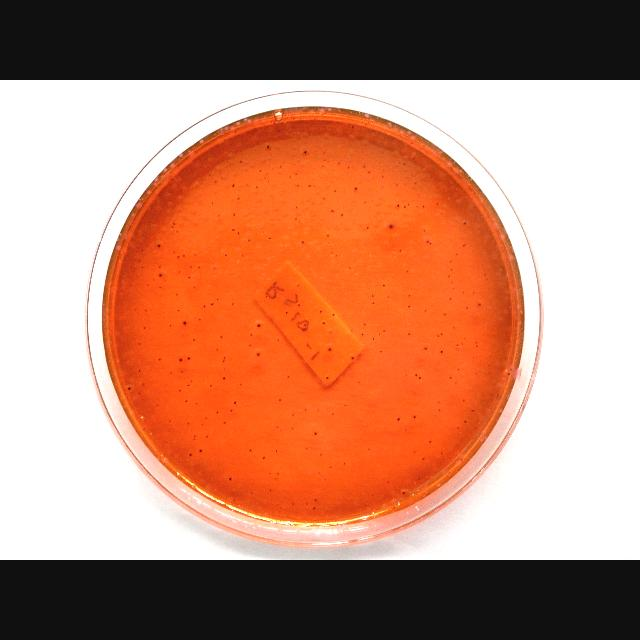colony: (266, 144, 270, 150), (210, 302, 216, 306), (388, 224, 394, 228), (397, 416, 401, 422), (304, 150, 308, 154), (208, 173, 212, 177), (197, 265, 201, 269), (158, 273, 162, 277), (178, 358, 182, 362), (158, 358, 162, 362), (199, 449, 203, 453), (228, 477, 232, 481), (268, 472, 272, 476), (314, 498, 318, 502), (438, 408, 442, 412), (424, 347, 428, 351), (478, 303, 482, 307), (408, 294, 412, 298), (319, 310, 323, 314), (257, 324, 261, 328), (462, 243, 466, 247), (382, 283, 386, 287), (372, 301, 376, 305), (399, 249, 403, 253), (256, 353, 260, 357), (278, 398, 282, 402), (314, 432, 318, 436), (326, 376, 330, 380), (172, 222, 176, 226), (215, 180, 218, 184), (232, 213, 235, 217), (192, 338, 195, 342), (312, 506, 316, 509), (428, 441, 432, 444), (452, 326, 456, 329), (225, 253, 228, 257), (294, 172, 298, 175), (296, 185, 300, 188), (402, 162, 406, 165), (422, 205, 426, 208), (222, 376, 225, 380), (441, 351, 444, 354), (436, 202, 439, 205), (396, 205, 399, 208), (326, 235, 329, 238), (366, 227, 369, 230), (352, 124, 354, 128), (232, 183, 234, 187), (232, 228, 234, 232), (248, 238, 250, 242), (158, 244, 160, 248), (141, 248, 143, 252), (158, 286, 162, 288), (153, 278, 155, 282), (176, 292, 178, 296), (184, 321, 186, 325), (203, 304, 205, 308), (138, 342, 140, 346), (143, 326, 145, 330), (170, 371, 172, 375), (210, 384, 212, 388), (142, 383, 144, 387), (138, 392, 142, 394), (201, 422, 203, 426), (168, 420, 172, 422), (156, 404, 160, 406), (234, 401, 236, 405), (194, 434, 196, 438), (276, 473, 280, 475), (292, 502, 294, 506), (306, 502, 308, 506), (402, 492, 406, 494), (422, 457, 424, 461), (463, 420, 467, 422), (508, 372, 510, 376), (474, 372, 478, 374), (474, 342, 478, 344), (461, 342, 463, 346), (463, 290, 465, 294), (364, 322, 366, 326), (362, 332, 364, 336), (372, 337, 374, 341), (378, 332, 380, 336), (382, 330, 386, 332), (232, 302, 234, 306), (179, 270, 181, 274), (213, 266, 215, 270), (302, 240, 304, 244), (322, 198, 326, 200), (354, 188, 358, 190), (348, 165, 350, 169), (363, 165, 365, 169), (323, 158, 325, 162), (464, 221, 466, 225), (450, 268, 452, 272), (448, 274, 450, 278), (372, 294, 374, 298), (334, 255, 338, 257), (349, 266, 351, 270), (297, 284, 299, 288), (249, 343, 251, 347), (250, 333, 252, 337), (219, 336, 223, 338), (305, 408, 307, 412), (317, 408, 319, 412), (332, 412, 334, 416), (344, 462, 346, 466), (324, 478, 326, 482), (142, 428, 146, 430), (250, 448, 252, 452), (286, 376, 290, 378), (328, 348, 332, 350), (352, 356, 354, 360), (380, 350, 382, 354), (176, 230, 178, 234), (138, 258, 140, 262), (145, 308, 147, 312), (134, 308, 136, 312), (484, 272, 486, 276), (486, 276, 488, 280), (404, 429, 408, 431), (280, 165, 282, 168), (268, 180, 270, 183), (240, 160, 242, 163), (221, 177, 223, 180), (173, 250, 175, 253), (188, 356, 190, 359), (181, 371, 183, 374), (128, 386, 130, 389), (222, 422, 225, 424), (192, 438, 195, 440), (386, 482, 389, 484), (414, 451, 416, 454), (475, 426, 477, 429), (438, 401, 440, 404), (464, 336, 466, 339), (419, 376, 421, 379), (436, 335, 439, 337), (441, 333, 444, 335), (330, 331, 332, 334), (242, 255, 244, 258), (262, 230, 264, 233), (269, 237, 271, 240), (341, 214, 344, 216), (308, 185, 310, 188), (338, 162, 340, 165), (368, 170, 370, 173), (326, 160, 329, 162), (426, 240, 428, 243), (429, 242, 431, 245), (331, 252, 334, 254), (224, 356, 226, 359), (292, 426, 294, 429), (306, 446, 308, 449), (263, 456, 265, 459), (279, 511, 281, 514), (250, 492, 253, 494), (170, 226, 173, 228), (364, 200, 366, 203), (277, 130, 279, 132), (259, 170, 261, 172), (266, 173, 268, 175), (264, 177, 266, 179), (256, 186, 258, 188), (238, 198, 240, 200), (211, 202, 213, 204), (237, 232, 239, 234), (194, 254, 196, 256), (190, 266, 192, 268), (183, 255, 185, 257), (177, 256, 179, 258), (159, 266, 161, 268), (165, 280, 167, 282), (142, 266, 144, 268), (147, 284, 149, 286), (178, 310, 180, 312), (198, 318, 200, 320), (170, 324, 172, 326), (139, 370, 141, 372), (191, 380, 193, 382), (187, 384, 189, 386), (179, 390, 181, 392), (185, 400, 187, 402), (196, 403, 198, 405), (216, 411, 218, 413), (205, 417, 207, 419), (187, 422, 189, 424), (230, 410, 232, 412), (206, 436, 208, 438), (190, 454, 192, 456), (269, 490, 271, 492), (371, 494, 373, 496), (418, 478, 420, 480), (441, 452, 443, 454), (457, 427, 459, 429), (472, 410, 474, 412), (462, 399, 464, 401), (414, 416, 416, 418), (488, 372, 490, 374), (488, 364, 490, 366), (476, 345, 478, 347), (456, 344, 458, 346), (457, 368, 459, 370), (450, 376, 452, 378), (455, 381, 457, 383), (415, 374, 417, 376), (408, 333, 410, 335), (444, 313, 446, 315), (466, 306, 468, 308), (472, 292, 474, 294), (450, 298, 452, 300), (452, 287, 454, 289), (451, 281, 453, 283), (424, 310, 426, 312), (408, 306, 410, 308), (388, 296, 390, 298), (350, 330, 352, 332), (322, 322, 324, 324), (332, 314, 334, 316), (298, 304, 300, 306), (286, 312, 288, 314), (266, 296, 268, 298), (217, 298, 219, 300), (193, 286, 195, 288), (188, 276, 190, 278), (295, 218, 297, 220), (295, 206, 297, 208), (331, 210, 333, 212), (333, 210, 335, 212), (334, 190, 336, 192), (289, 176, 291, 178), (322, 166, 324, 168), (382, 176, 384, 178), (396, 184, 398, 186), (323, 152, 325, 154), (414, 182, 416, 184), (407, 204, 409, 206), (404, 206, 406, 208), (416, 206, 418, 208), (424, 230, 426, 232), (456, 253, 458, 255), (449, 260, 451, 262), (406, 270, 408, 272), (277, 339, 279, 341), (216, 348, 218, 350), (222, 360, 224, 362), (223, 368, 225, 370), (240, 384, 242, 386), (292, 414, 294, 416), (344, 404, 346, 406), (320, 454, 322, 456), (330, 466, 332, 468), (368, 448, 370, 450), (275, 450, 277, 452), (318, 472, 320, 474), (276, 504, 278, 506), (233, 499, 235, 501), (151, 425, 153, 427), (274, 478, 276, 480), (276, 478, 278, 479)
